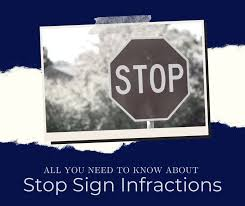stop sign: (108, 36, 188, 121)
